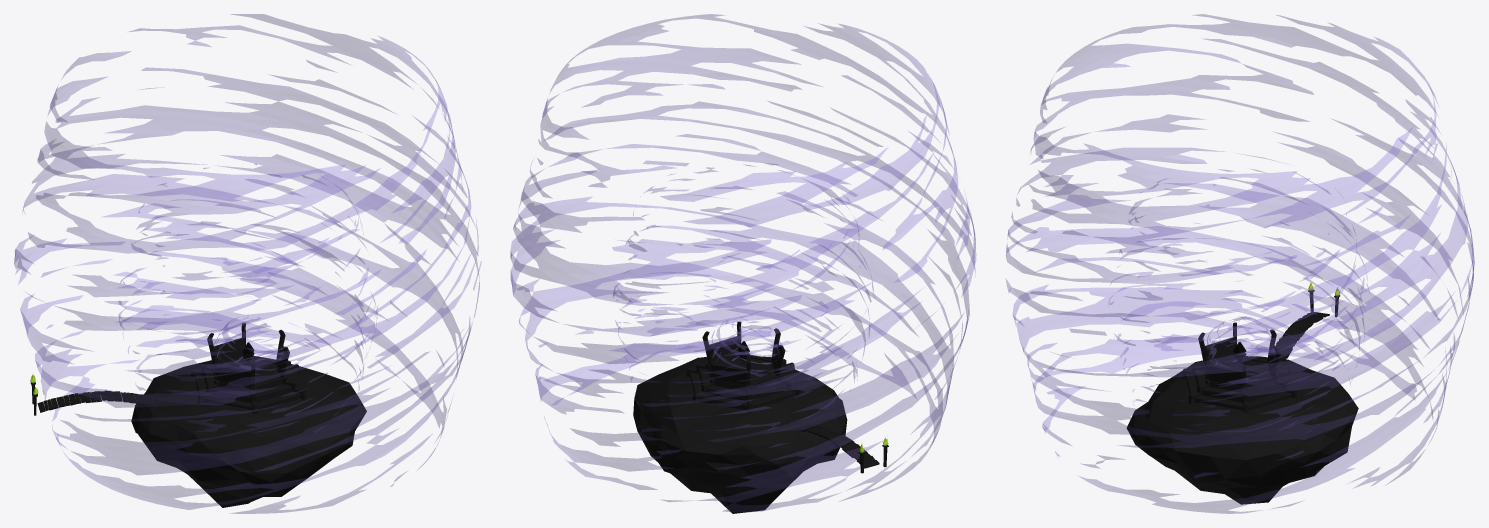
File: mint_island.glb
The picture shows the model from 3 angles, left to right: view 1: azimuth 30°, elevation 25°; view 2: azimuth 150°, elevation 25°; view 3: azimuth 270°, elevation 25°; orthographic projection.
Parts seen in each view (by area): view 1: StormEffect2, Land, StormEffect, StormEffect3; view 2: StormEffect2, Land, StormEffect, StormEffect3; view 3: StormEffect2, Land, StormEffect, StormEffect3.
Boxes of the visible parts, x1,y1,x2,y2 form: StormEffect2: (14, 14, 481, 513); Land: (30, 323, 366, 507); StormEffect: (118, 164, 377, 439); StormEffect3: (214, 316, 282, 374); StormEffect2: (510, 14, 976, 511); Land: (633, 321, 888, 513); StormEffect: (613, 163, 873, 430); StormEffect3: (711, 315, 778, 376); StormEffect2: (1006, 14, 1474, 513); Land: (1127, 290, 1358, 504); StormEffect: (1108, 169, 1369, 432); StormEffect3: (1207, 316, 1274, 376).
Size of the model in its own units: 23.61 by 22.84 by 23.62.
